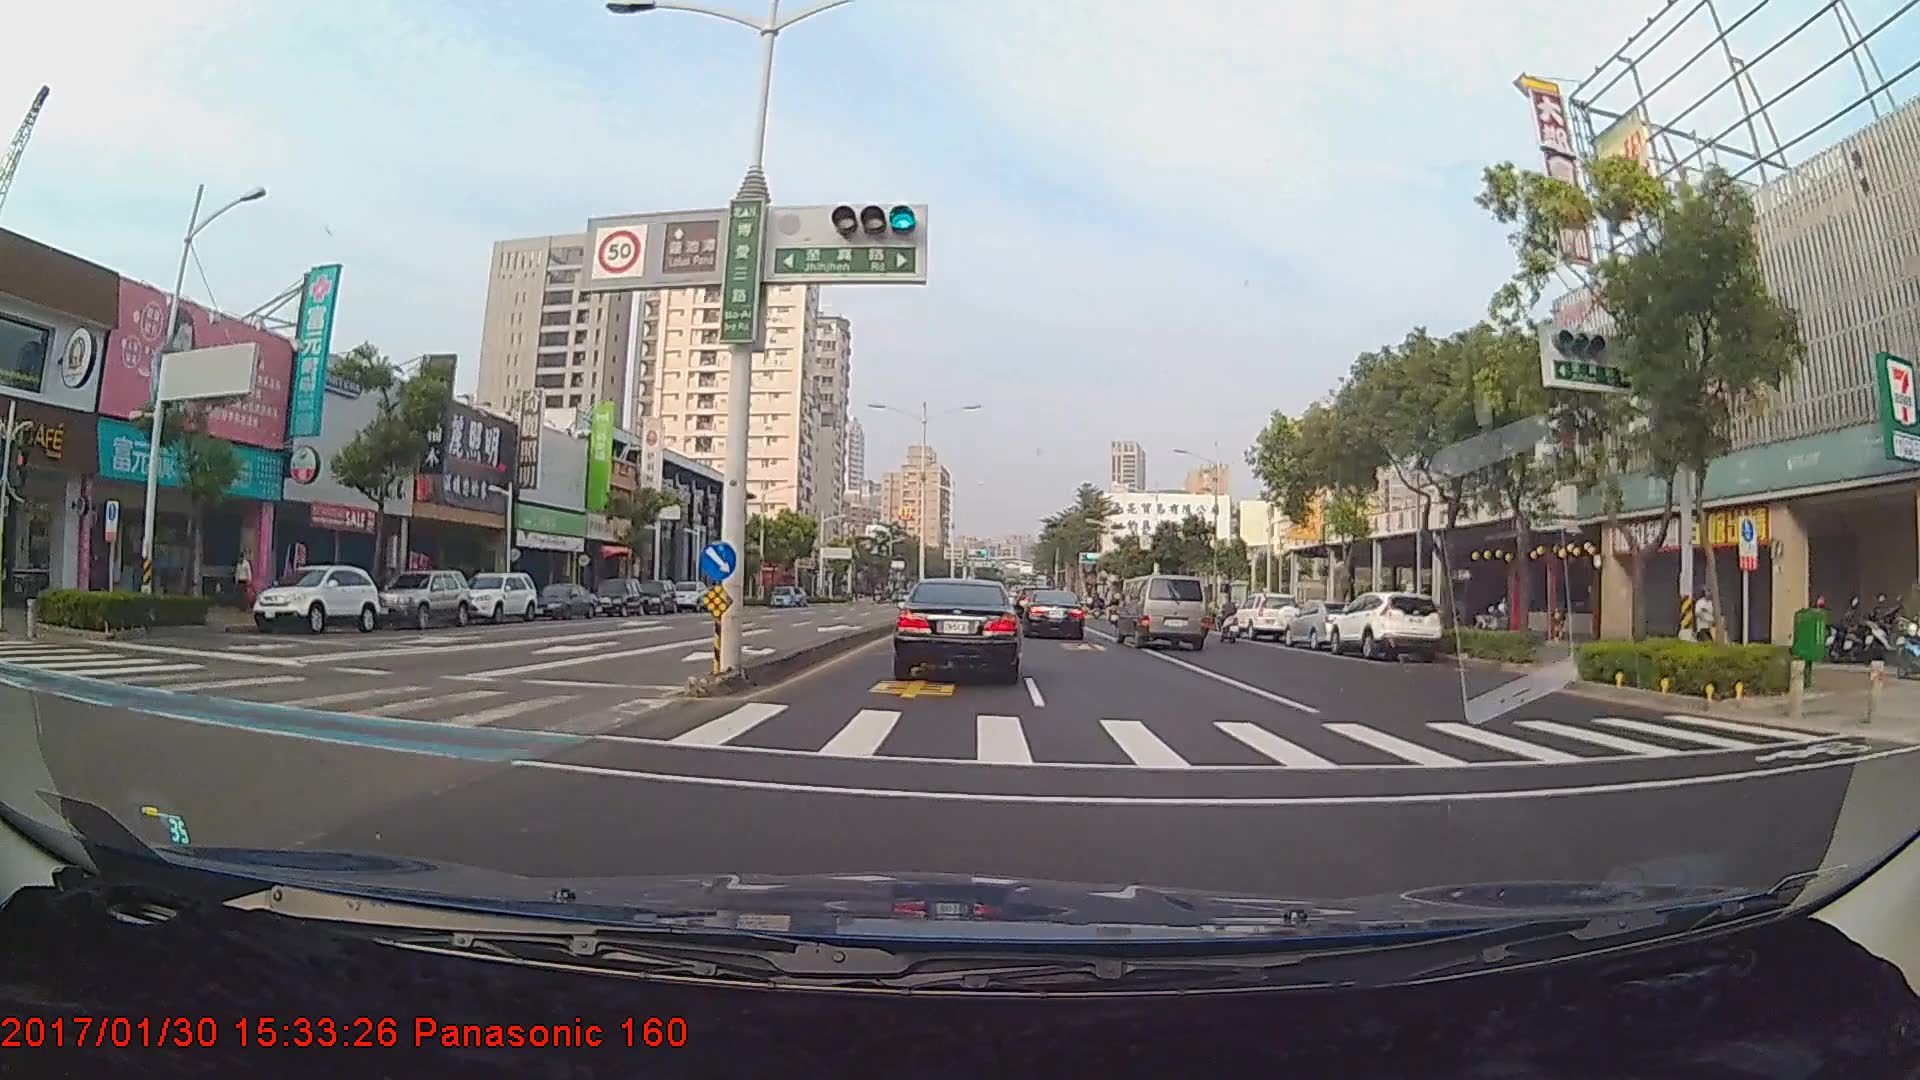pedestrian: (232, 555, 255, 616)
rider: (1211, 593, 1248, 642)
vehicle: (894, 574, 1020, 681), (247, 563, 378, 633), (1324, 587, 1445, 658), (1119, 574, 1207, 650), (364, 567, 469, 629), (458, 571, 540, 625), (1283, 598, 1366, 648), (1016, 588, 1086, 642), (1234, 592, 1298, 642), (524, 579, 596, 621), (590, 576, 643, 616), (633, 580, 676, 615), (674, 580, 714, 613)
